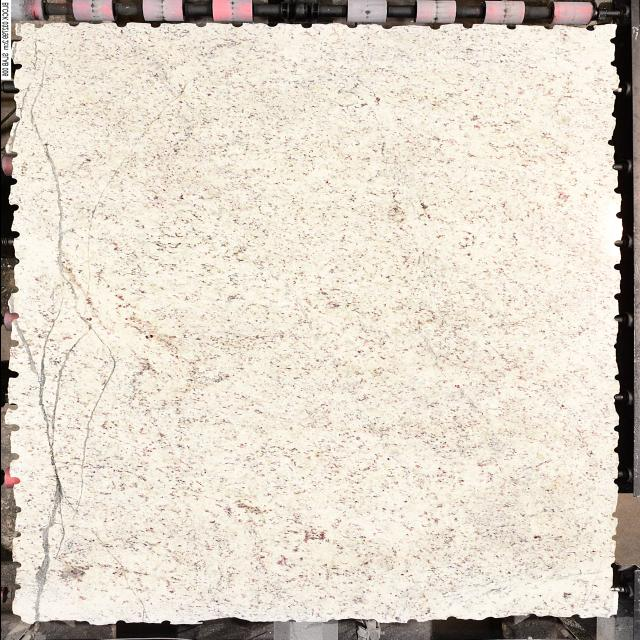chapa: (6, 24, 621, 624)
veio: (6, 472, 23, 488), (537, 22, 559, 34), (2, 367, 19, 382), (142, 18, 162, 30), (458, 19, 478, 31), (600, 137, 620, 149), (4, 309, 21, 322), (11, 31, 26, 45), (340, 20, 360, 30), (500, 21, 520, 31), (3, 147, 19, 159), (3, 450, 19, 462), (612, 210, 628, 222), (610, 292, 626, 304), (3, 422, 18, 434), (580, 23, 600, 32), (2, 401, 18, 412), (108, 19, 130, 27), (609, 238, 626, 248), (6, 202, 20, 214), (425, 22, 443, 31), (6, 228, 22, 238), (8, 62, 25, 71), (609, 186, 624, 196), (376, 22, 396, 29), (608, 262, 624, 270), (296, 22, 314, 29)
